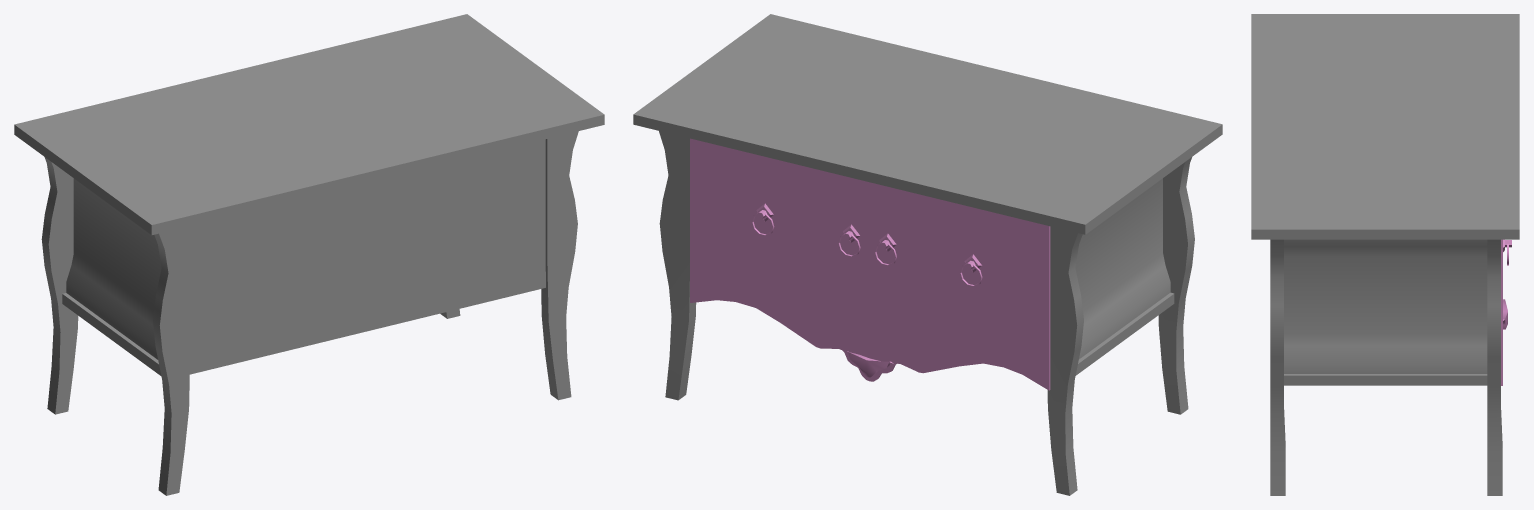
The model's file is MasterNightstand.FBX.
3 views of the same model, side by side, from view 1: azimuth 30°, elevation 25°; view 2: azimuth 150°, elevation 25°; view 3: azimuth 270°, elevation 25° (orthographic). The views are drawn at different scales.
Parts seen in each view (by area): view 1: Nightstand_LP, Top_LP; view 2: Top_LP, Door_LP, Nightstand_LP, Box_LP; view 3: Top_LP, Nightstand_LP, Door_LP.
Boxes of the visible parts, left/top/right/bottom form: Nightstand_LP: left=41, top=131, right=578, bottom=495; Top_LP: left=14, top=14, right=604, bottom=234; Top_LP: left=633, top=14, right=1222, bottom=234; Door_LP: left=690, top=138, right=1050, bottom=390; Nightstand_LP: left=659, top=131, right=1194, bottom=495; Box_LP: left=756, top=203, right=981, bottom=272; Top_LP: left=1251, top=14, right=1519, bottom=239; Nightstand_LP: left=1270, top=239, right=1502, bottom=495; Door_LP: left=1501, top=239, right=1507, bottom=385.
Bounding box in the file's own units: 138 × 82.71 × 72.58.
